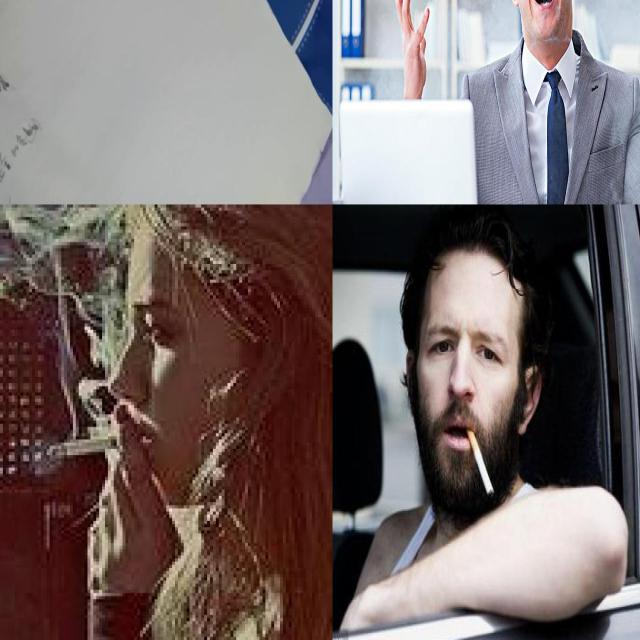smoking: (454, 402, 501, 498), (46, 430, 142, 462)
